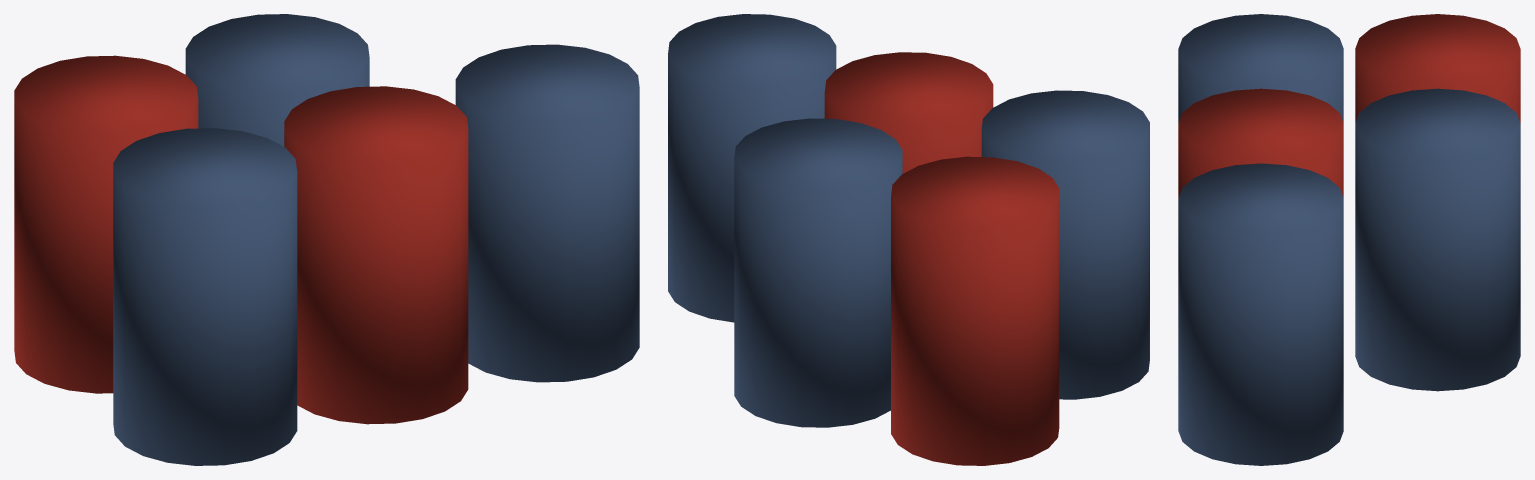
File: FuelBarrels.fbx
3 views of the same model, side by side, from view 1: azimuth 30°, elevation 25°; view 2: azimuth 150°, elevation 25°; view 3: azimuth 270°, elevation 25° (orthographic). The views are drawn at different scales.
Parts seen in each view (by area): view 1: Barrel0, Barrel1, Barrel2, Barrel3, Barrel4; view 2: Barrel3, Barrel4, Barrel0, Barrel2, Barrel1; view 3: Barrel2, Barrel4, Barrel0, Barrel3, Barrel1.
Part boxes in pixels (x1,y1,x2,y2): Barrel0: (113, 128, 297, 465); Barrel1: (284, 86, 468, 424); Barrel2: (455, 44, 639, 382); Barrel3: (14, 55, 198, 393); Barrel4: (185, 14, 369, 146); Barrel3: (891, 156, 1059, 465); Barrel4: (734, 118, 902, 427); Barrel0: (981, 90, 1149, 399); Barrel2: (668, 14, 836, 322); Barrel1: (824, 52, 993, 173); Barrel2: (1178, 163, 1343, 465); Barrel4: (1355, 88, 1520, 391); Barrel0: (1178, 14, 1343, 122); Barrel3: (1355, 14, 1520, 122); Barrel1: (1178, 88, 1343, 197).
Size of the model in its own units: 182 by 120 by 90.
